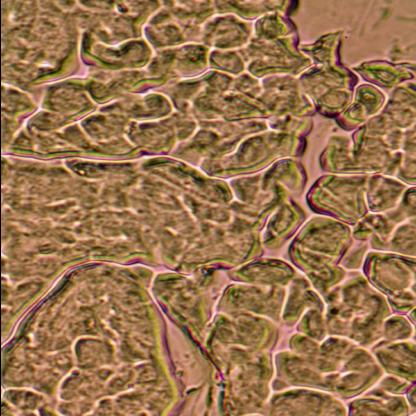Stage I: (0, 64, 412, 416)
